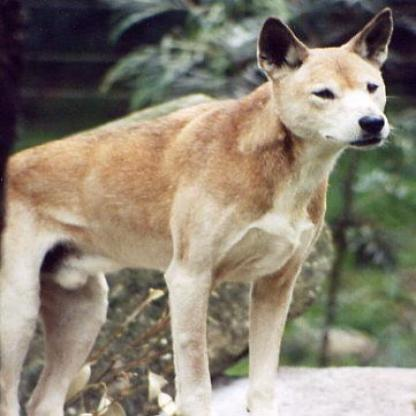dingo: (0, 5, 394, 413)
